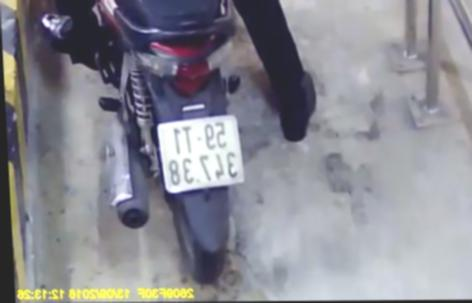License_Plate: (150, 110, 252, 198)
